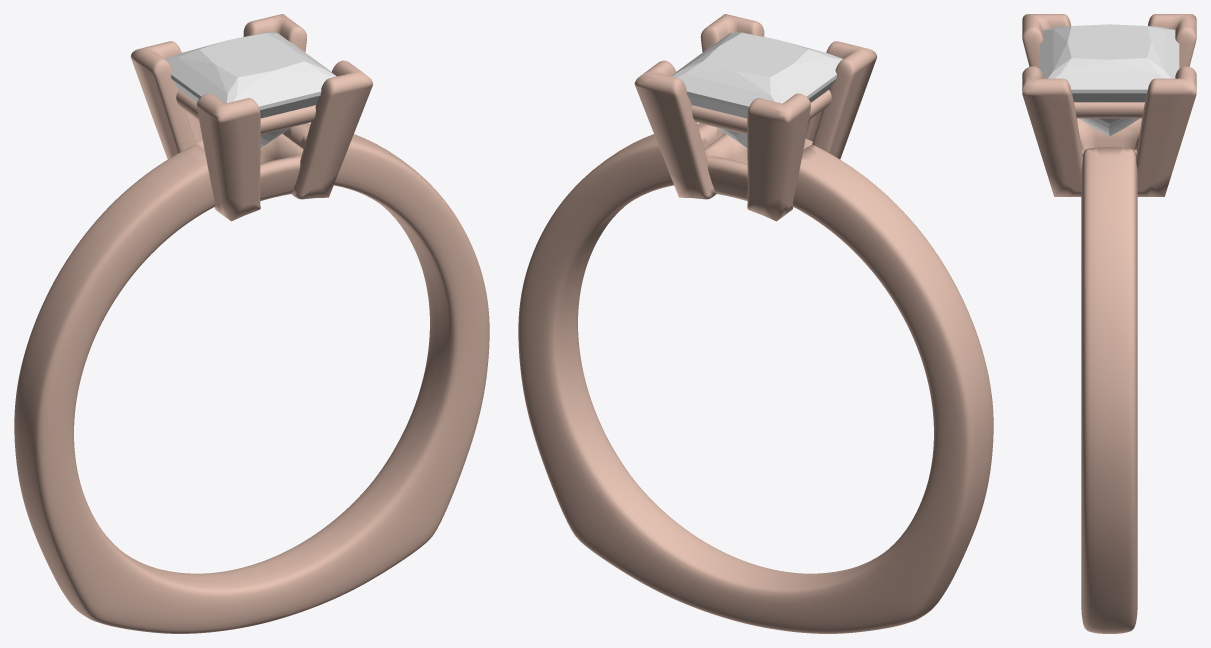
File: diamond-princess-rosegold-protectededges4prongs-europeanshank-solitaire.glb
The picture shows the model from 3 angles, left to right: view 1: azimuth 30°, elevation 25°; view 2: azimuth 150°, elevation 25°; view 3: azimuth 270°, elevation 25°; orthographic projection.
Visible parts, largest first — view 1: metal, stone; view 2: metal, stone; view 3: metal, stone.
Boxes of the visible parts, x1,y1,x2,y2 form: metal: (14, 14, 489, 633); stone: (165, 32, 336, 147); metal: (518, 14, 993, 633); stone: (671, 32, 842, 147); metal: (1022, 14, 1196, 633); stone: (1039, 24, 1179, 136).
Size of the model in its own units: 20.11 by 23.65 by 6.77.
